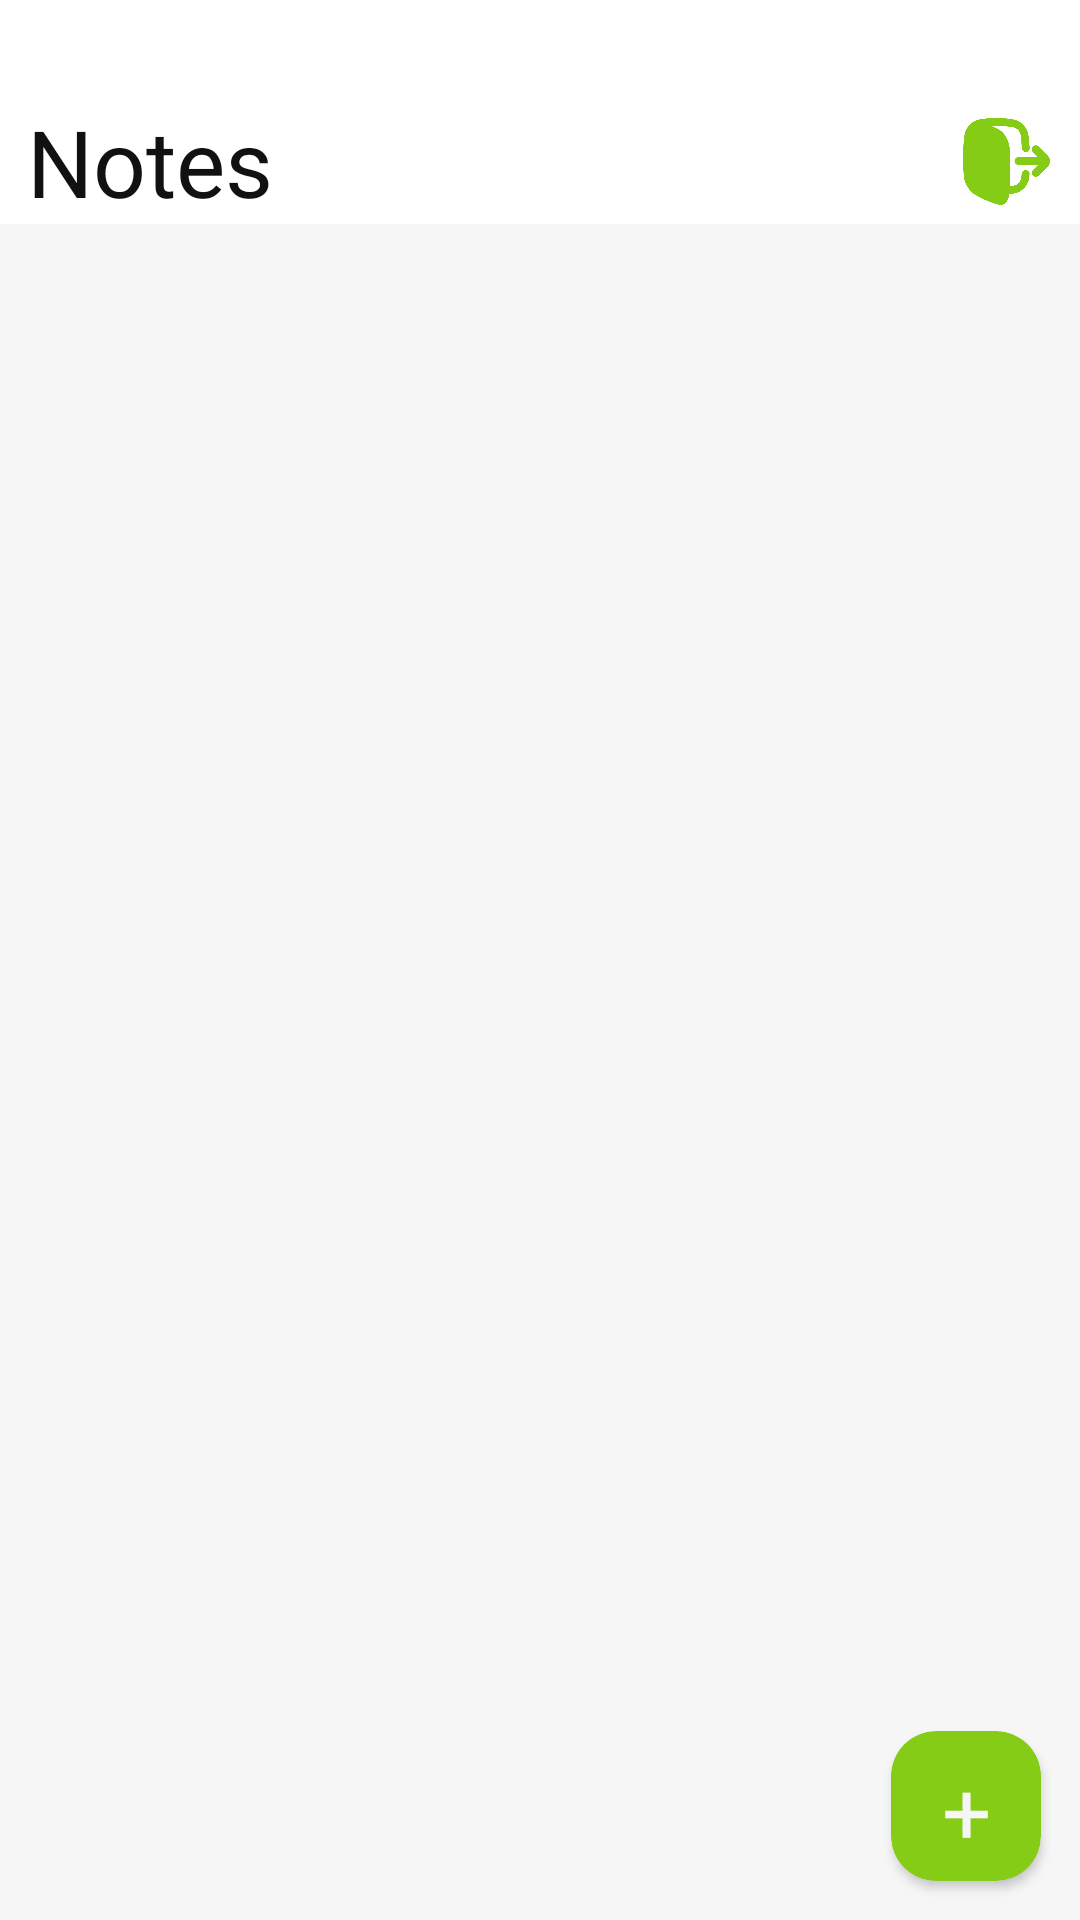

Icons on this 1080x1920 Android screen, each with its box as [left=x1, top=y1, right=x2, bottom=y2]:
log out: [left=963, top=118, right=1050, bottom=205]
